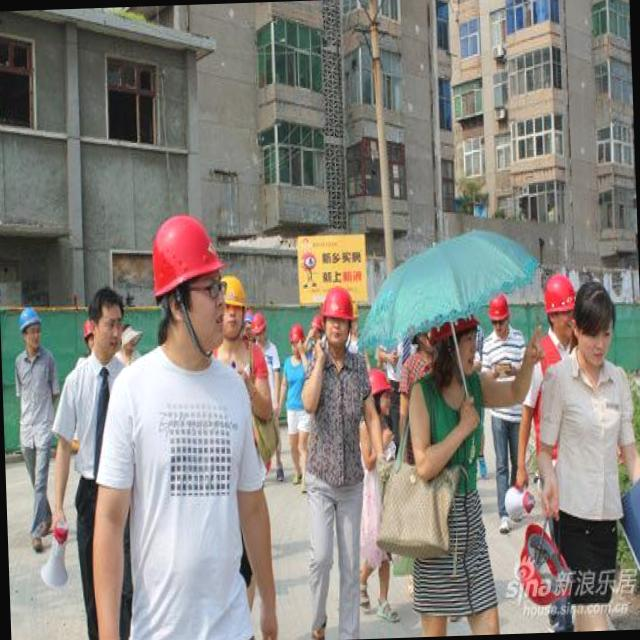helmet: (142, 212, 228, 310), (536, 264, 582, 320), (316, 283, 358, 337), (10, 298, 44, 345), (484, 290, 517, 326)
no-helmet: (566, 278, 622, 344), (82, 278, 128, 346)
no-vest: (126, 352, 252, 635), (539, 349, 630, 533), (298, 345, 378, 496), (404, 368, 486, 510), (12, 355, 52, 450), (72, 357, 112, 438), (488, 331, 520, 368)
